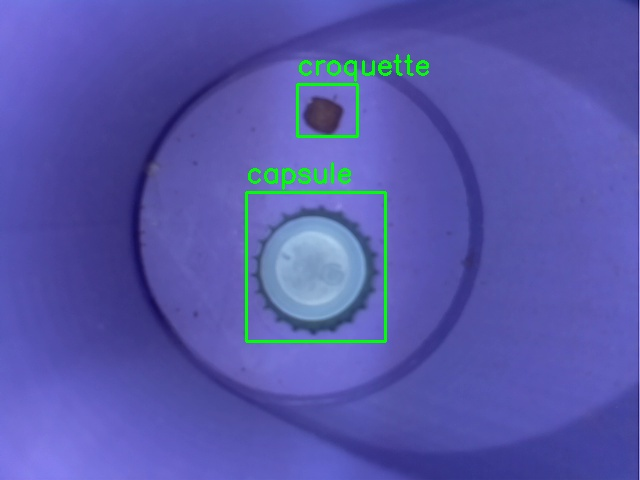capsule: (246, 192, 385, 341)
croquette: (297, 84, 357, 136)
